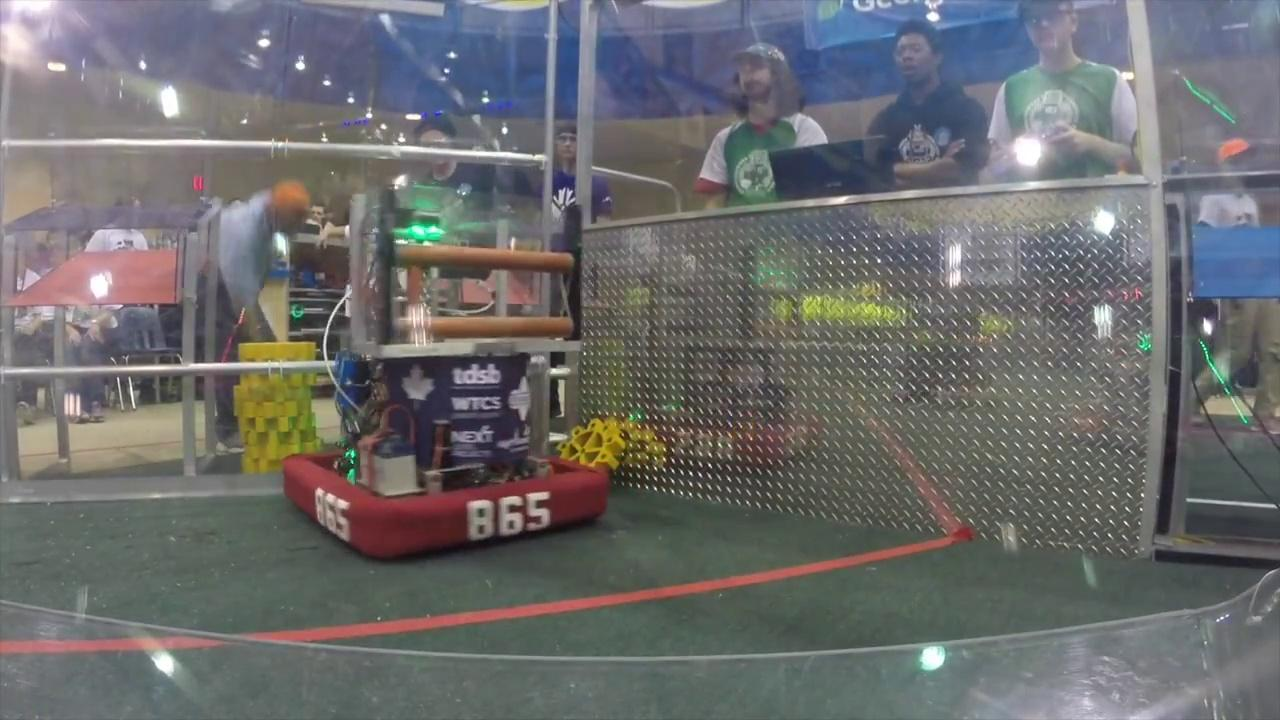robot: (273, 175, 620, 561)
